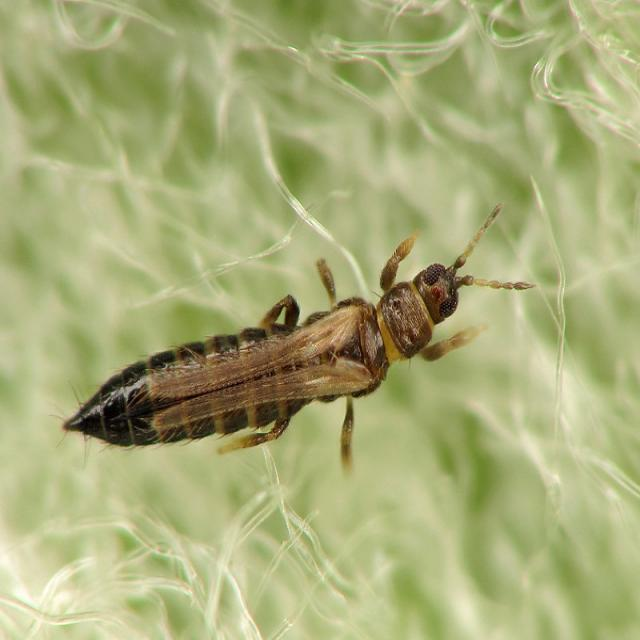thrip: (59, 205, 528, 457)
